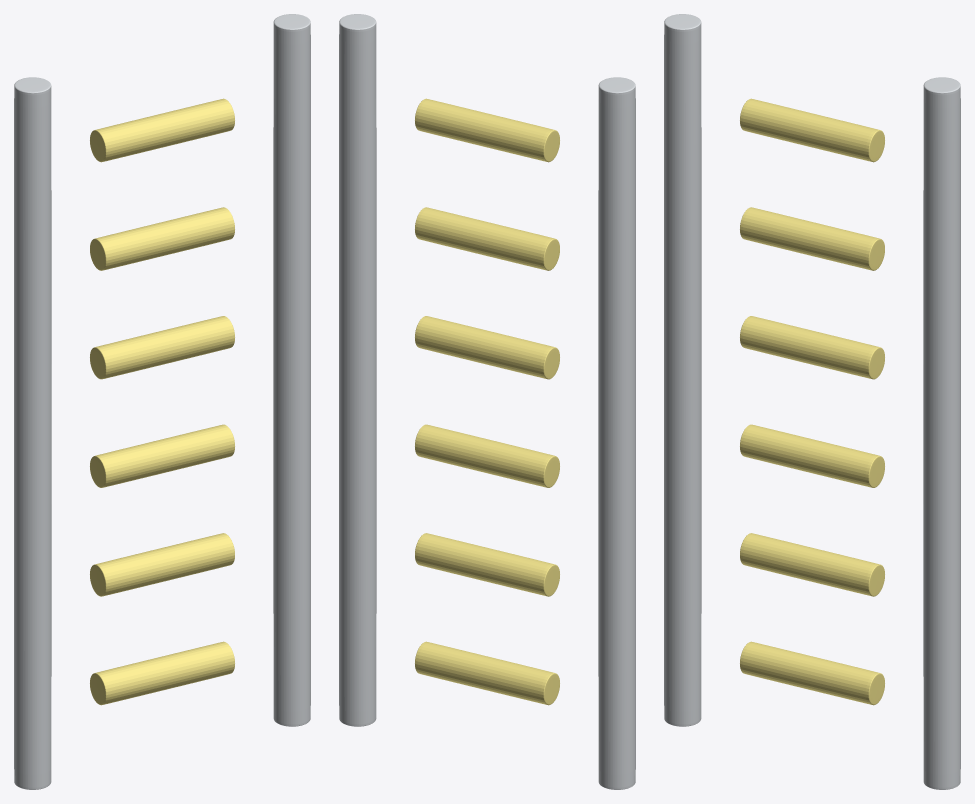
File: Toy_Ladder_Hi_000654.fbx
3 views of the same model, side by side, from view 1: azimuth 30°, elevation 25°; view 2: azimuth 150°, elevation 25°; view 3: azimuth 330°, elevation 25° (orthographic).
Visible parts, largest first — view 1: Cylinder.006, Cylinder.007, Cylinder.002, Cylinder.003, Cylinder, Cylinder.005, Cylinder.001, Cylinder.004; view 2: Cylinder.006, Cylinder.007, Cylinder.002, Cylinder.003, Cylinder, Cylinder.005, Cylinder.001, Cylinder.004; view 3: Cylinder.006, Cylinder.007, Cylinder.002, Cylinder.003, Cylinder, Cylinder.005, Cylinder.001, Cylinder.004.
Boxes of the visible parts, x1,y1,x2,y2 form: Cylinder.006: [14, 77, 51, 789]; Cylinder.007: [273, 14, 310, 726]; Cylinder.002: [90, 424, 234, 487]; Cylinder.003: [90, 316, 234, 379]; Cylinder: [90, 641, 234, 705]; Cylinder.005: [90, 98, 234, 162]; Cylinder.001: [90, 533, 234, 596]; Cylinder.004: [90, 207, 234, 270]; Cylinder.006: [598, 77, 635, 789]; Cylinder.007: [339, 14, 376, 726]; Cylinder.002: [415, 424, 559, 487]; Cylinder.003: [415, 316, 559, 379]; Cylinder: [415, 641, 559, 705]; Cylinder.005: [415, 98, 559, 162]; Cylinder.001: [415, 533, 559, 596]; Cylinder.004: [415, 207, 559, 270]; Cylinder.006: [664, 14, 701, 726]; Cylinder.007: [923, 77, 960, 789]; Cylinder.002: [740, 424, 884, 487]; Cylinder.003: [740, 316, 884, 379]; Cylinder: [740, 641, 884, 705]; Cylinder.005: [740, 98, 884, 162]; Cylinder.001: [740, 533, 884, 596]; Cylinder.004: [740, 207, 884, 270].
Size of the model in its own units: 0.7877 by 1.8 by 0.0877.
